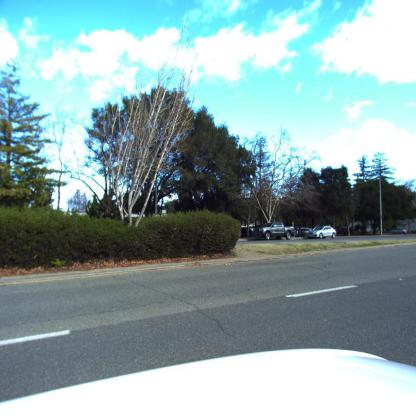car: (262, 221, 288, 239), (312, 225, 338, 239), (298, 227, 314, 237), (390, 227, 409, 234)
